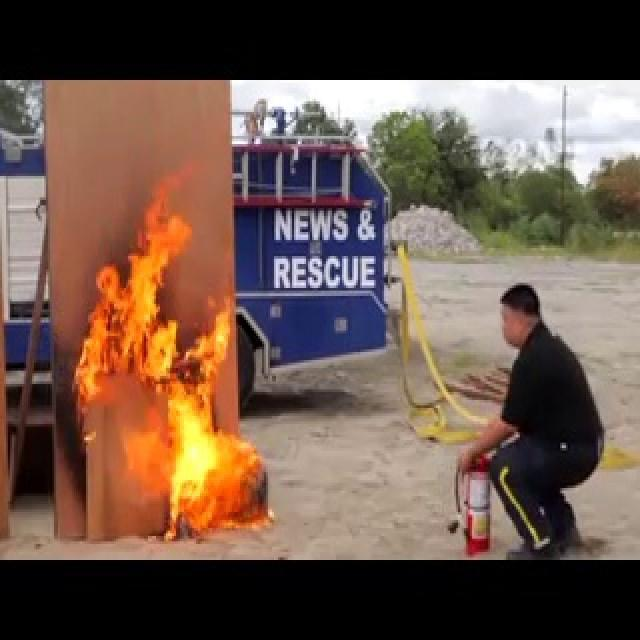fire: (66, 113, 268, 540)
